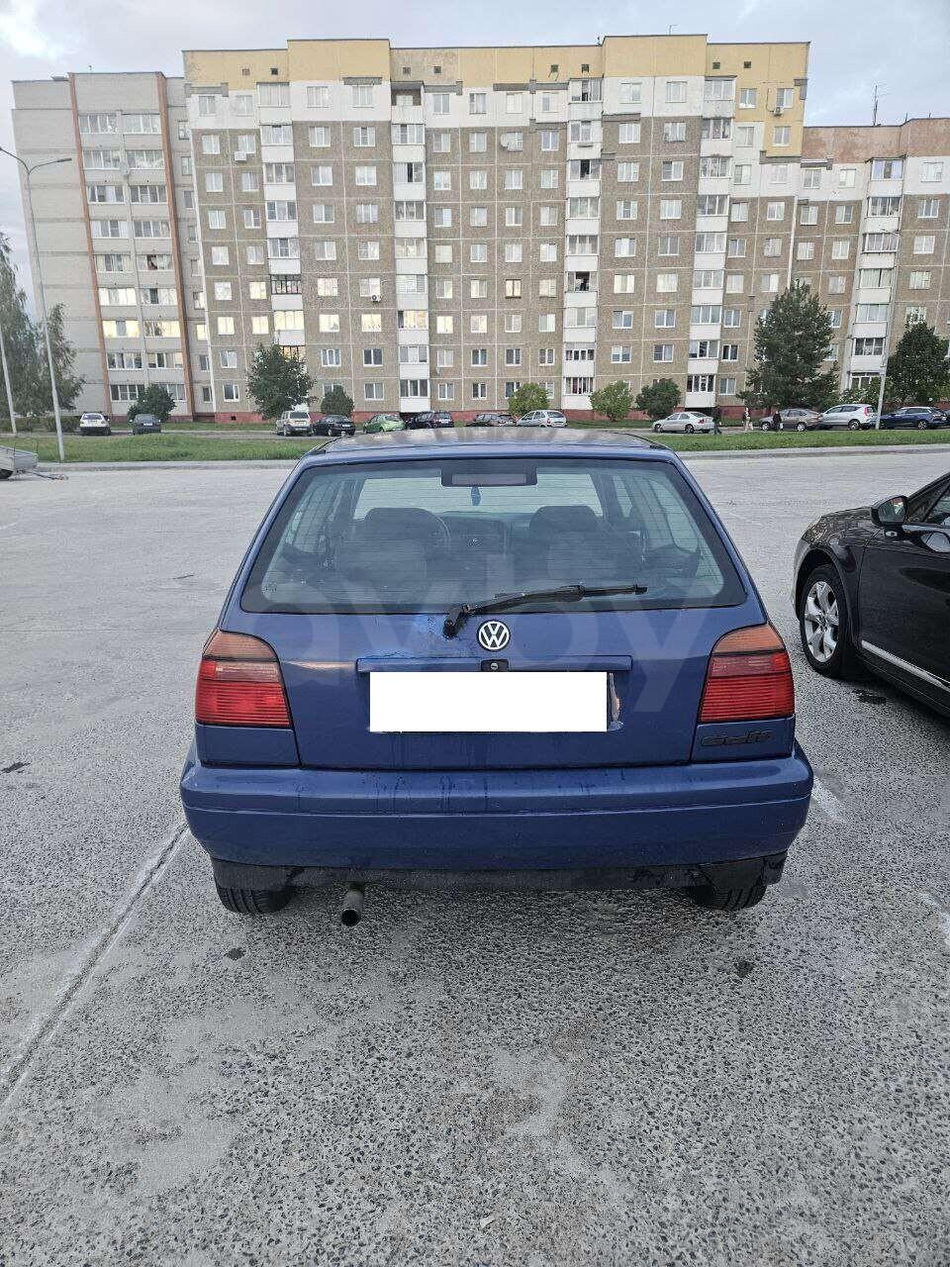Golf_1991-2000: (176, 429, 825, 936)
